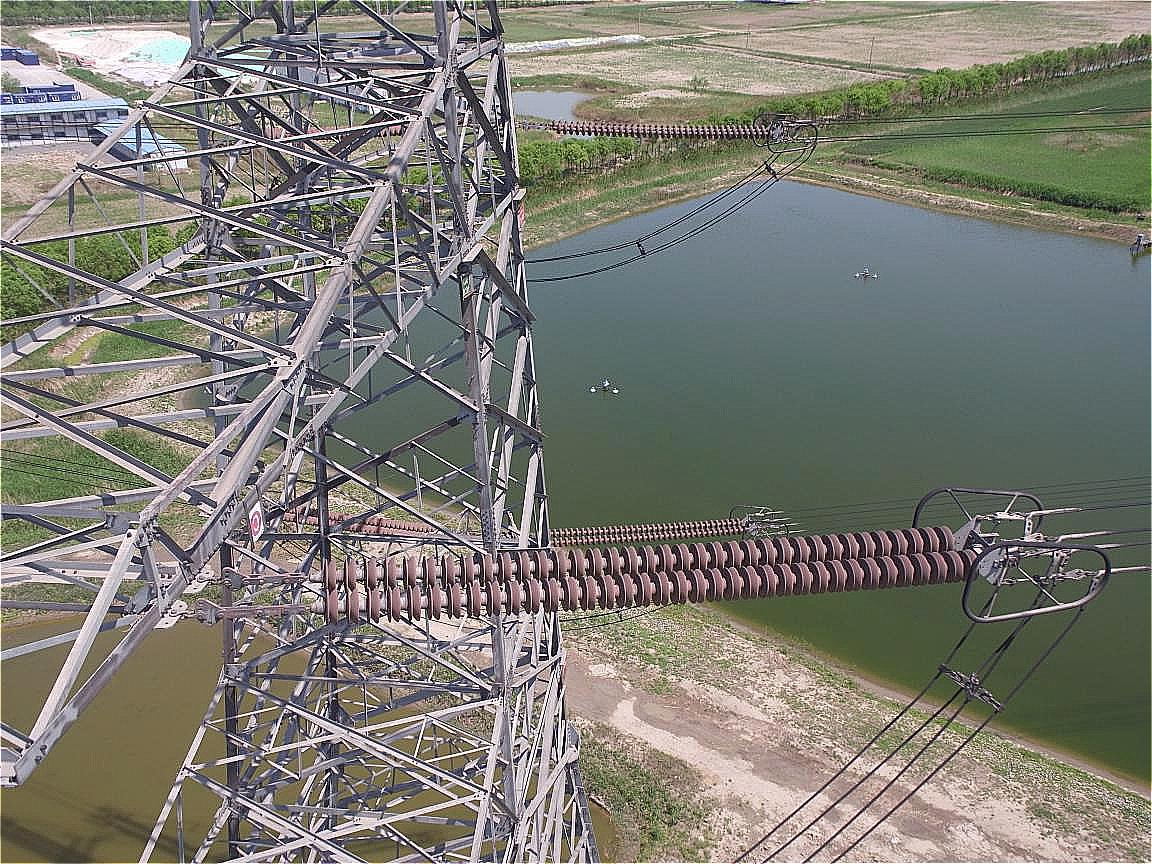insultor1: (538, 503, 751, 557), (550, 108, 786, 149)
insultor2: (295, 519, 961, 646)
